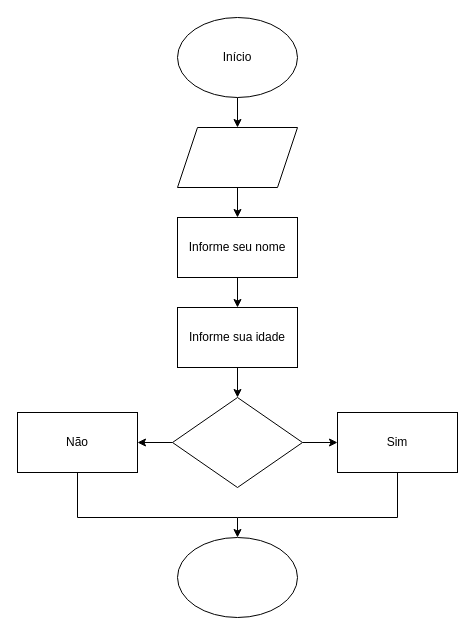
Some shapes in this 475 by 635 pixel diagram are drawn without their labels. The centre of each missing label's shape, as x and y in pixels:
"idade" goes at point (237, 157).
"idade é maior que 18" goes at point (237, 442).
